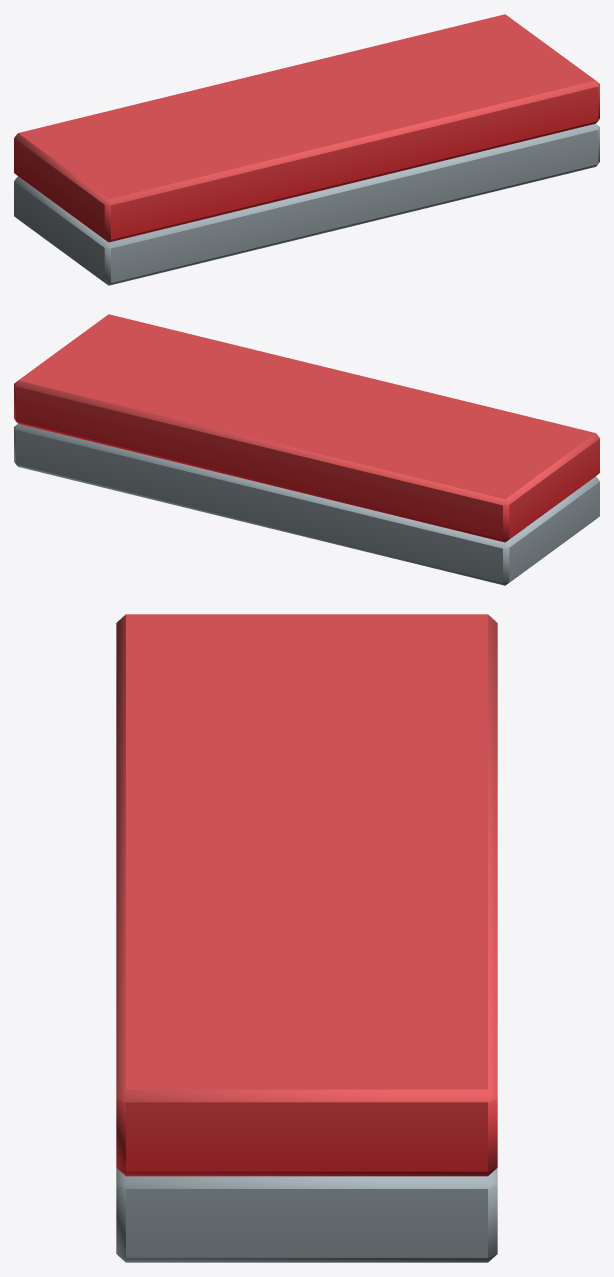
File: platform_6x2x1_red.glb
The picture shows the model from 3 angles, top to bottom: view 1: azimuth 30°, elevation 25°; view 2: azimuth 150°, elevation 25°; view 3: azimuth 270°, elevation 25°; orthographic projection. The views are drawn at different scales.
Parts seen in each view (by area): view 1: platform_6x2x1_red; view 2: platform_6x2x1_red; view 3: platform_6x2x1_red.
Boxes of the visible parts, box(x1,y1,x2,y2) form: platform_6x2x1_red: box(14, 14, 599, 285); platform_6x2x1_red: box(14, 314, 599, 585); platform_6x2x1_red: box(116, 614, 497, 1262).
Size of the model in its own units: 6 by 1 by 2.
Materials: 1 (1 with a texture image).
